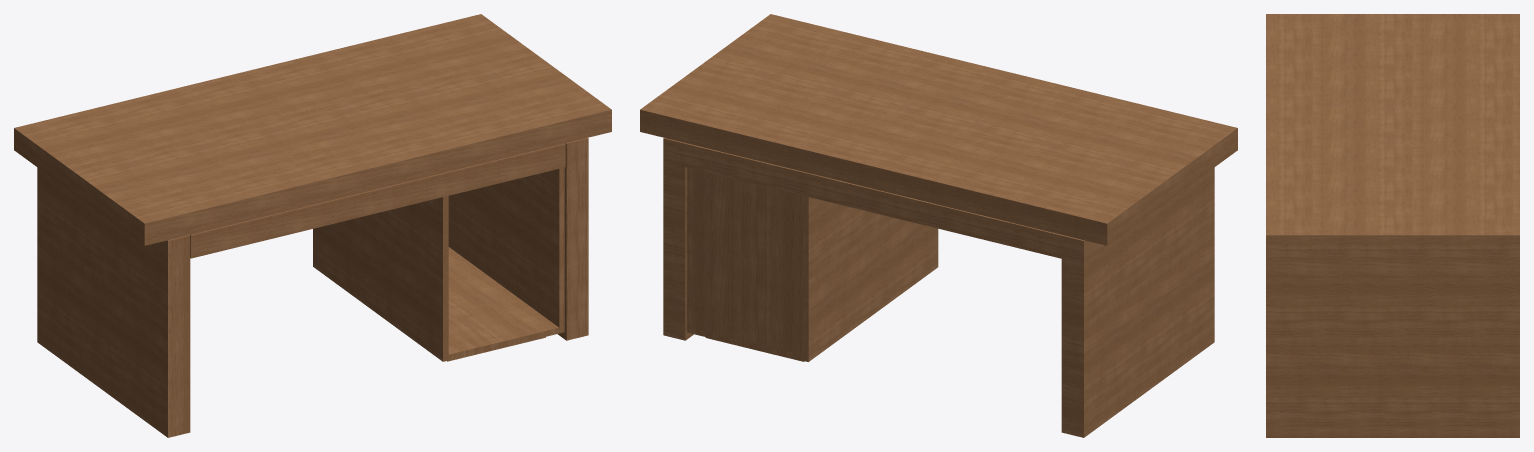
The model's file is Desk2.0.glb.
3 renders of one model, left to right at view 1: azimuth 30°, elevation 25°; view 2: azimuth 150°, elevation 25°; view 3: azimuth 270°, elevation 25°, orthographic. The views are drawn at different scales.
Visible parts, largest first — view 1: Cube; view 2: Cube; view 3: Cube.
Boxes of the visible parts, box(x1,y1,x2,y2) form: Cube: box(14, 14, 611, 437); Cube: box(640, 14, 1237, 437); Cube: box(1266, 14, 1519, 437).
Size of the model in its own units: 2.74 by 1.23 by 1.33.
1 material, 1 textured.
